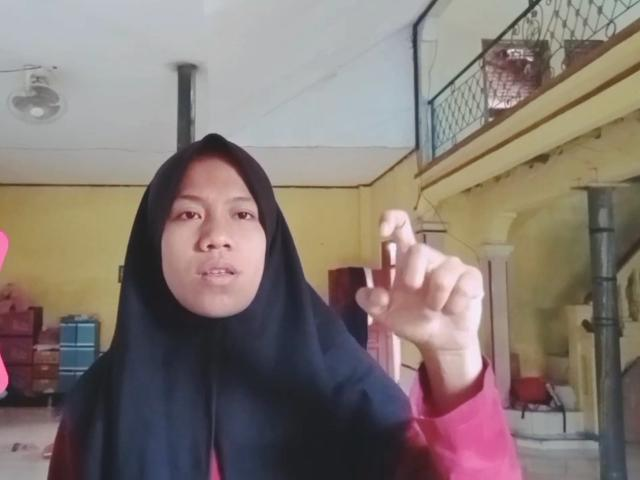X: (349, 199, 483, 353)
